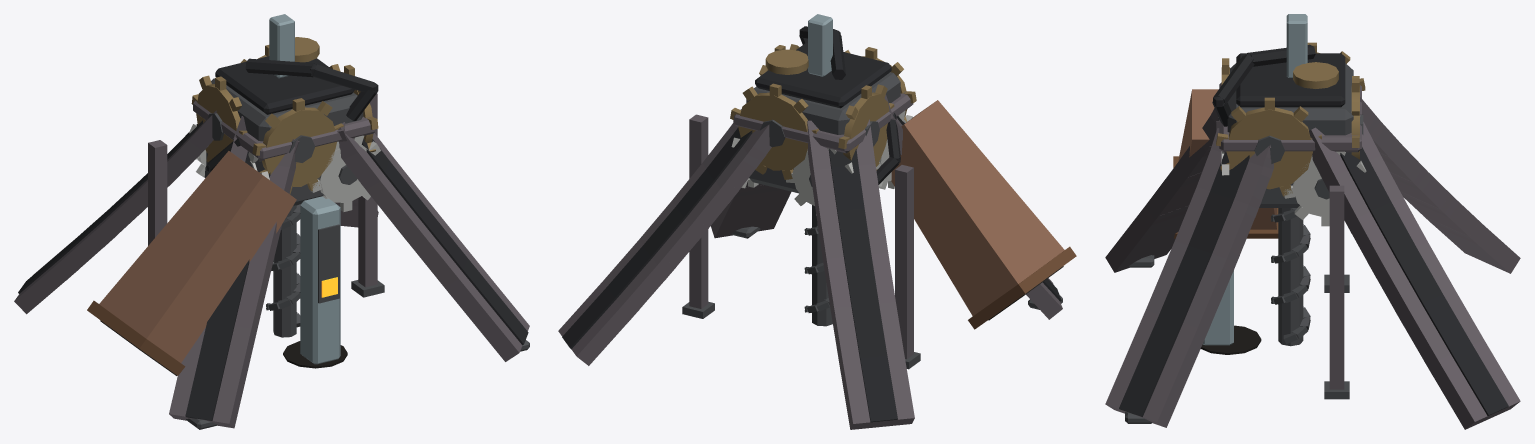
Rendered from burner-mining-drill-west.glb.
3 renders of one model, left to right at view 1: azimuth 30°, elevation 25°; view 2: azimuth 150°, elevation 25°; view 3: azimuth 270°, elevation 25°, orthographic. The views are drawn at different scales.
Parts seen in each view (by area): view 1: body, anim_gear_bmd_ns_00, anim_spin_drill, anim_gear_bmd_ew_30, anim_gear_bmd_r_ns_01, anim_slide_bmd_rod, anim_gear_bmd_ew_10; view 2: body, anim_gear_bmd_ns_20, anim_gear_bmd_ew_30, anim_spin_drill, anim_slide_bmd_rod, anim_gear_bmd_r_ns_21, anim_gear_bmd_ns_00; view 3: body, anim_gear_bmd_ew_10, anim_spin_drill, anim_gear_bmd_r_ew_11, anim_slide_bmd_rod, anim_gear_bmd_ns_20.
Part boxes in pixels (bbox=[...]): body: bbox=[14, 37, 529, 429]; anim_gear_bmd_ns_00: bbox=[252, 98, 343, 194]; anim_spin_drill: bbox=[266, 204, 300, 337]; anim_gear_bmd_ew_30: bbox=[191, 75, 247, 162]; anim_gear_bmd_r_ns_01: bbox=[310, 135, 380, 211]; anim_slide_bmd_rod: bbox=[269, 14, 294, 78]; anim_gear_bmd_ew_10: bbox=[329, 64, 378, 152]; body: bbox=[558, 26, 1076, 429]; anim_gear_bmd_ns_20: bbox=[730, 83, 818, 179]; anim_gear_bmd_ew_30: bbox=[838, 84, 894, 170]; anim_spin_drill: bbox=[804, 205, 832, 326]; anim_slide_bmd_rod: bbox=[808, 14, 832, 76]; anim_gear_bmd_r_ns_21: bbox=[786, 148, 853, 215]; anim_gear_bmd_ns_00: bbox=[844, 47, 916, 121]; body: bbox=[1105, 44, 1520, 429]; anim_gear_bmd_ew_10: bbox=[1216, 97, 1321, 196]; anim_spin_drill: bbox=[1271, 208, 1310, 346]; anim_gear_bmd_r_ew_11: bbox=[1284, 151, 1366, 226]; anim_slide_bmd_rod: bbox=[1286, 14, 1307, 77]; anim_gear_bmd_ns_20: bbox=[1351, 76, 1363, 159].
Bounding box in the file's own units: 2.2 × 1.7 × 1.98.
